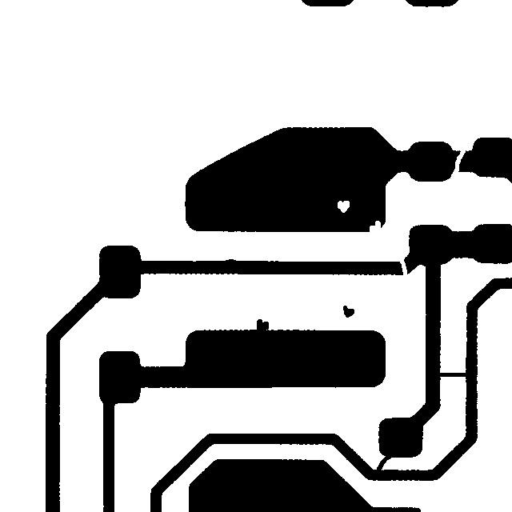copper: (335, 298, 362, 325)
mousebite: (362, 213, 388, 243)
open: (445, 141, 473, 183), (389, 246, 414, 286)
pin-hole: (330, 193, 357, 220)
short: (369, 442, 402, 478), (430, 365, 477, 384)
spur: (249, 311, 276, 339)
